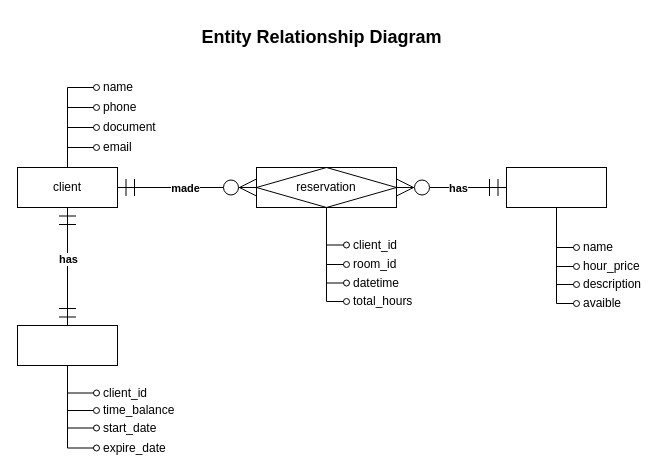
Some shapes in this 664 by 475 pixel diagram are drawn without their labels. Here are the shapes that lost their labels. From the top down, the centre of each, then its label:
At point (556, 187): "room".
At point (67, 345): "time_account".
